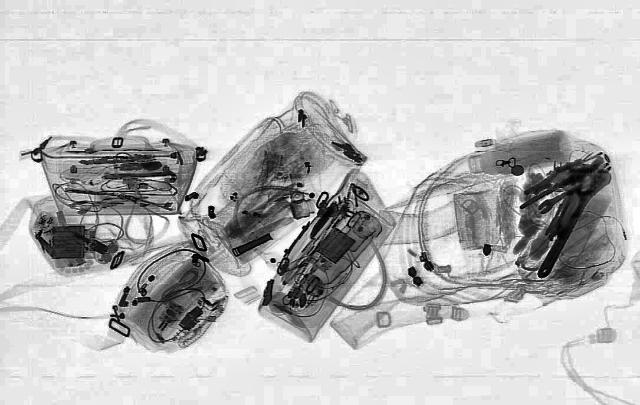Wrench: (522, 165, 616, 281), (532, 180, 590, 214)
